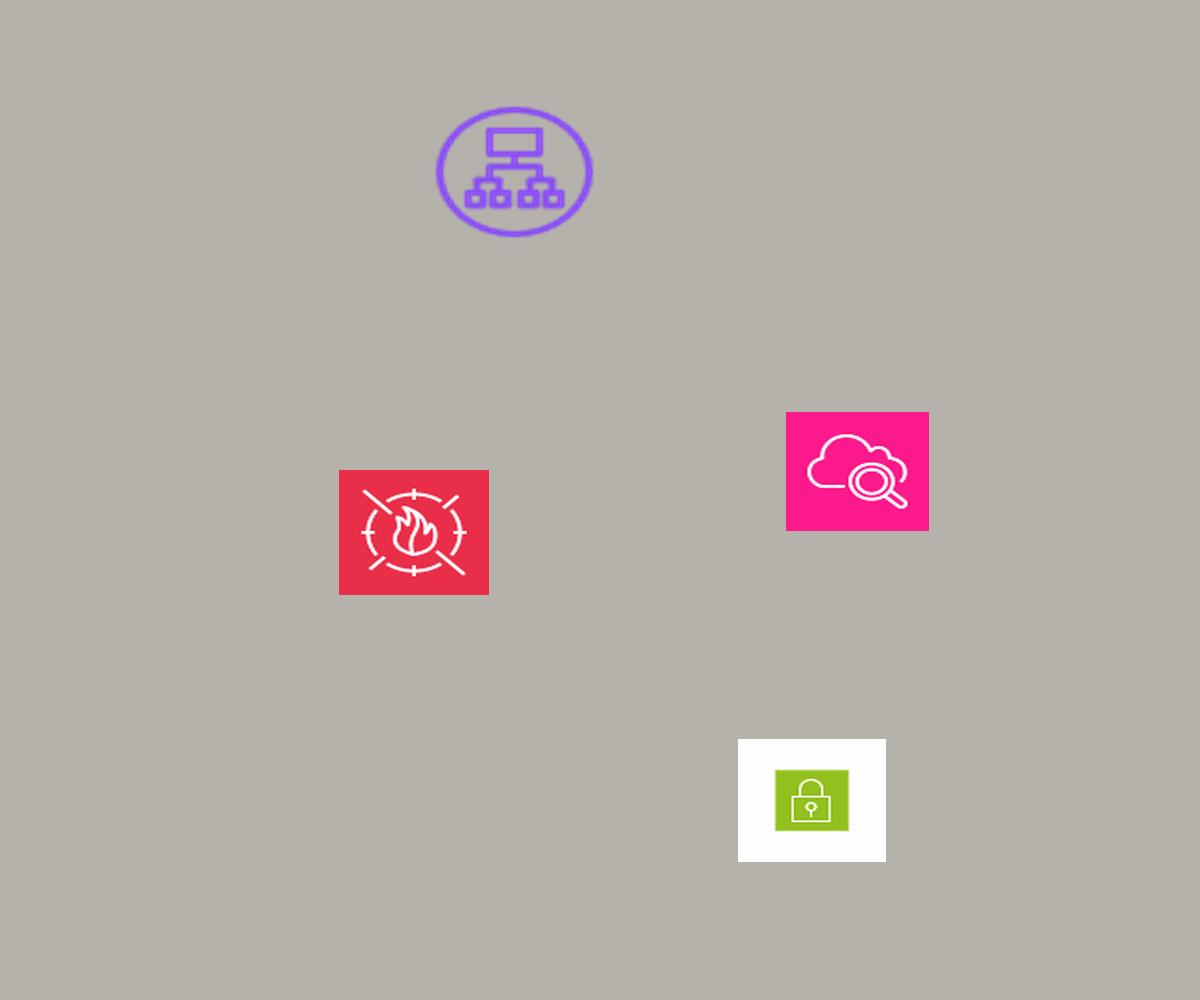AWS-CloudWatch: (786, 412, 929, 531)
AWS-Public-subnet: (738, 739, 886, 862)
AWS-Res_Elastic-Load-Balancing_Application-Load-Balancer: (429, 101, 600, 243)
AWS-WAF: (339, 470, 489, 595)
